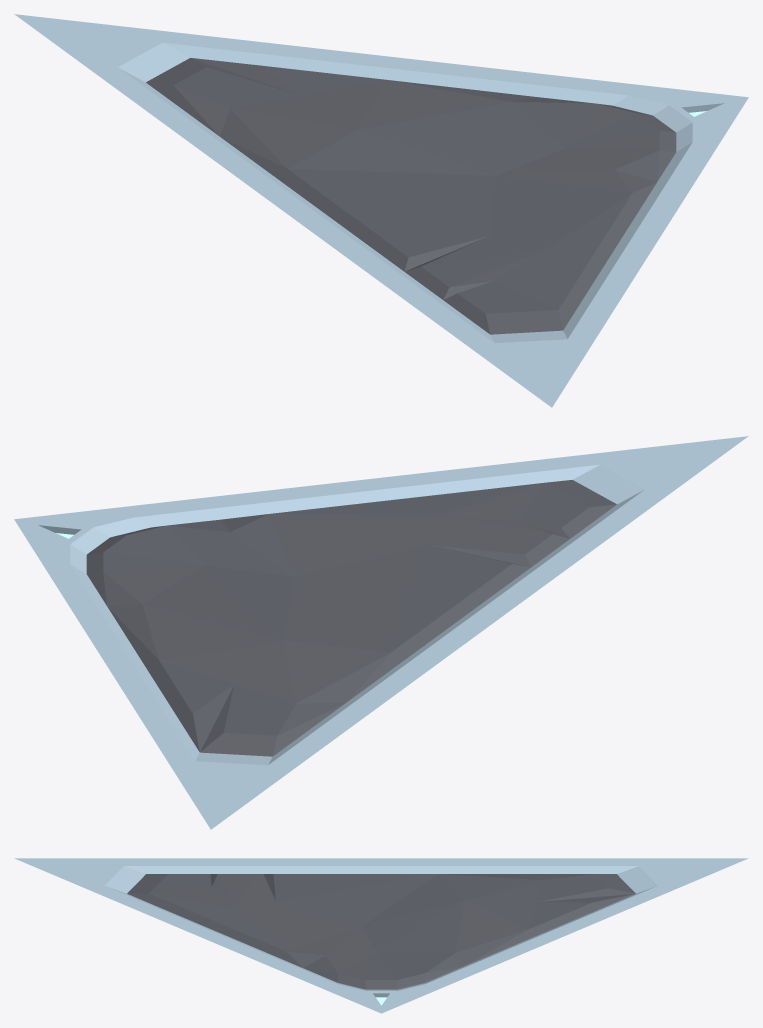
Rendered from Floor_Medium_Triangle.fbx.
3 renders of one model, top to bottom at view 1: azimuth 30°, elevation 25°; view 2: azimuth 150°, elevation 25°; view 3: azimuth 270°, elevation 25°, orthographic. The views are drawn at different scales.
Parts seen in each view (by area): view 1: Floor_Medium_Triangle; view 2: Floor_Medium_Triangle; view 3: Floor_Medium_Triangle.
Boxes of the visible parts, bbox=[...] form: Floor_Medium_Triangle: bbox=[14, 14, 748, 407]; Floor_Medium_Triangle: bbox=[14, 436, 748, 829]; Floor_Medium_Triangle: bbox=[14, 858, 748, 1013].
Bounding box in the file's own units: 4 × 0.0793 × 8.
